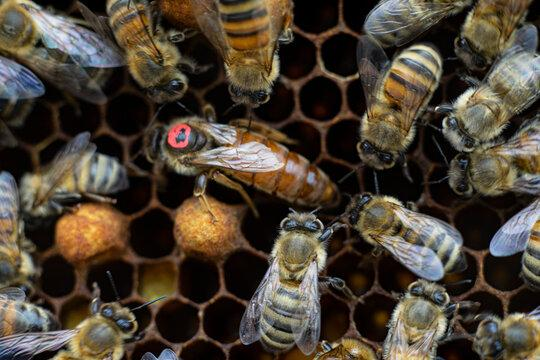Queen-Bee: (143, 105, 338, 215)
worker-bee: (239, 209, 352, 354), (78, 0, 204, 103), (436, 25, 539, 151), (0, 0, 123, 102), (0, 283, 165, 359), (356, 36, 442, 169), (344, 192, 466, 280), (191, 0, 291, 107), (19, 132, 128, 217), (448, 117, 539, 195), (454, 0, 531, 70), (473, 306, 539, 359), (181, 91, 182, 92)
